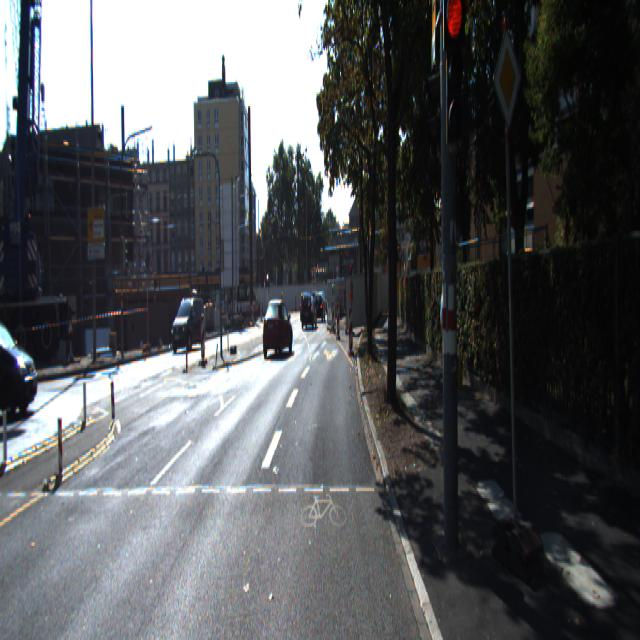Car: (0, 311, 43, 427), (170, 290, 205, 348), (261, 294, 293, 354), (301, 292, 317, 328)
